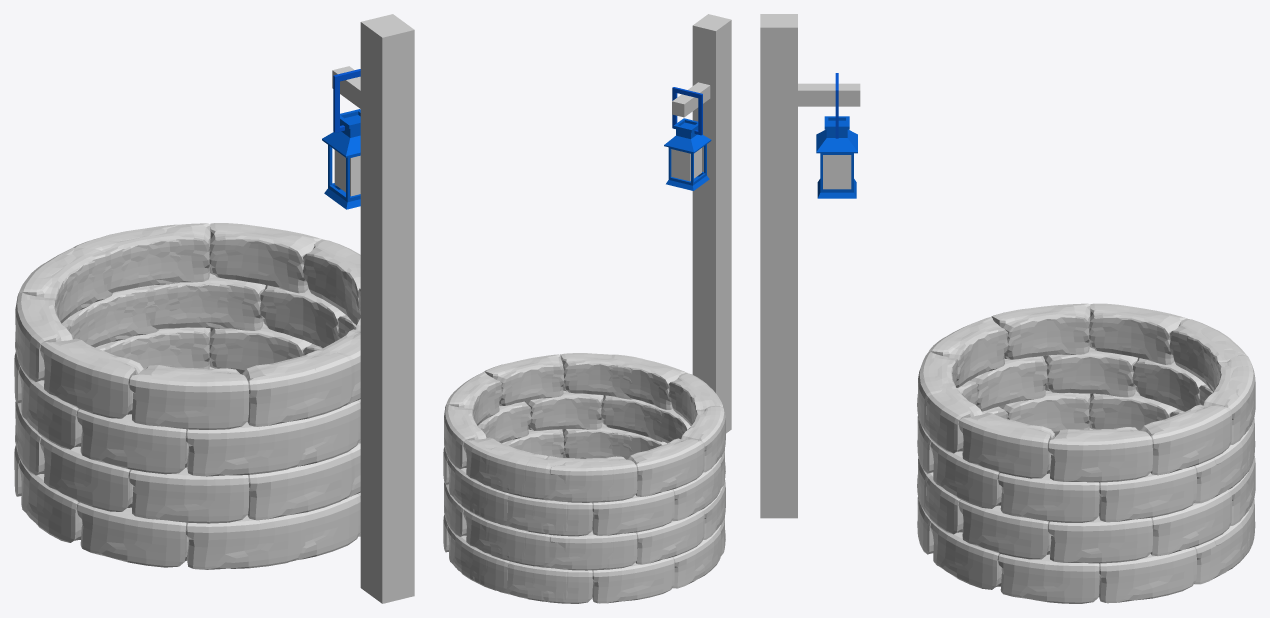
File: pozo.fbx
The picture shows the model from 3 angles, left to right: view 1: azimuth 30°, elevation 25°; view 2: azimuth 150°, elevation 25°; view 3: azimuth 270°, elevation 25°; orthographic projection. The views are drawn at different scales.
Parts seen in each view (by area): view 1: Pozo, Farola, Cube, Transparente, Cube.001; view 2: Pozo, Farola, Cube, Transparente, Cube.001; view 3: Pozo, Farola, Cube, Transparente.
Boxes of the visible parts, x1,y1,x2,y2 form: Pozo: (14, 223, 360, 569); Farola: (332, 14, 414, 603); Cube: (322, 109, 360, 209); Transparente: (334, 150, 360, 196); Cube.001: (333, 69, 360, 132); Pozo: (443, 353, 725, 603); Farola: (672, 14, 731, 433); Cube: (664, 118, 711, 190); Transparente: (671, 148, 701, 181); Cube.001: (672, 87, 702, 135); Pozo: (917, 303, 1255, 603); Farola: (760, 14, 860, 518); Cube: (816, 116, 857, 198); Transparente: (823, 155, 851, 189).
Size of the model in its own units: 221 by 369 by 323.
